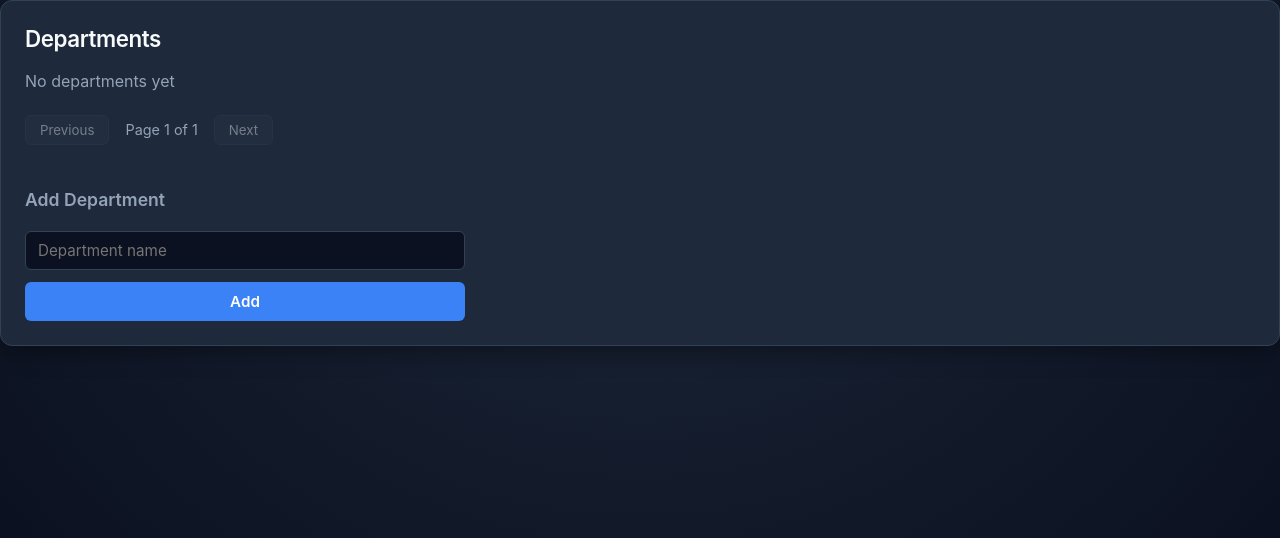
Test: DepartmentsPanel › shows API error message when adding a department fails
Expected: the text "No departments yet" is shown, [25,71,175,91]
Type "Water" into the field with placeholder "Department name" at (245, 250), box [25,231,465,270]
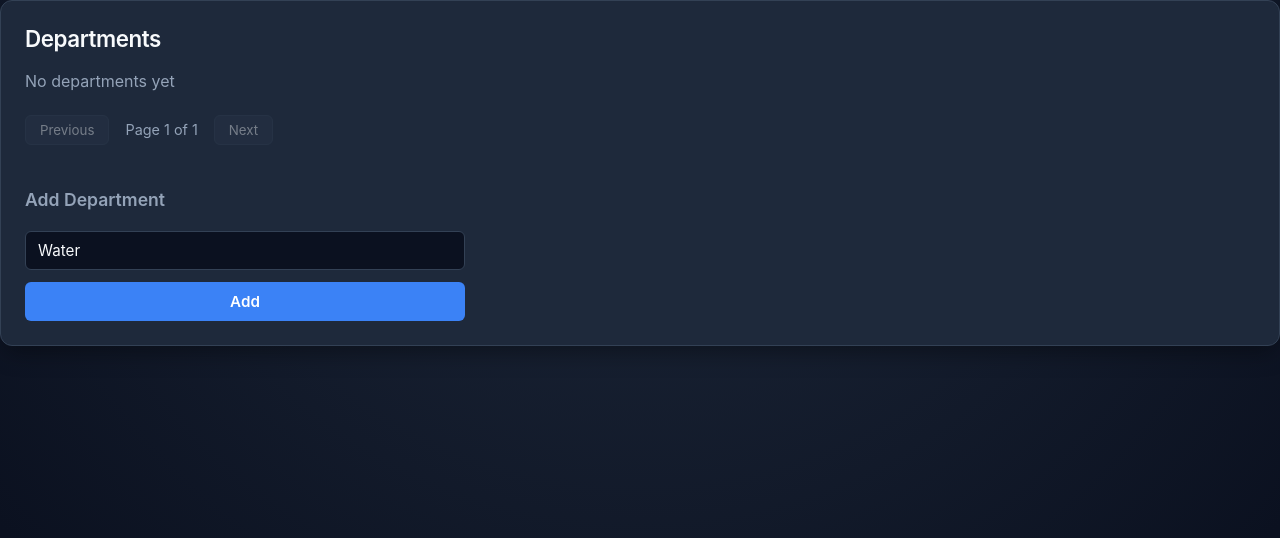
Click the button "Add" at (245, 301), box [25,282,465,321]
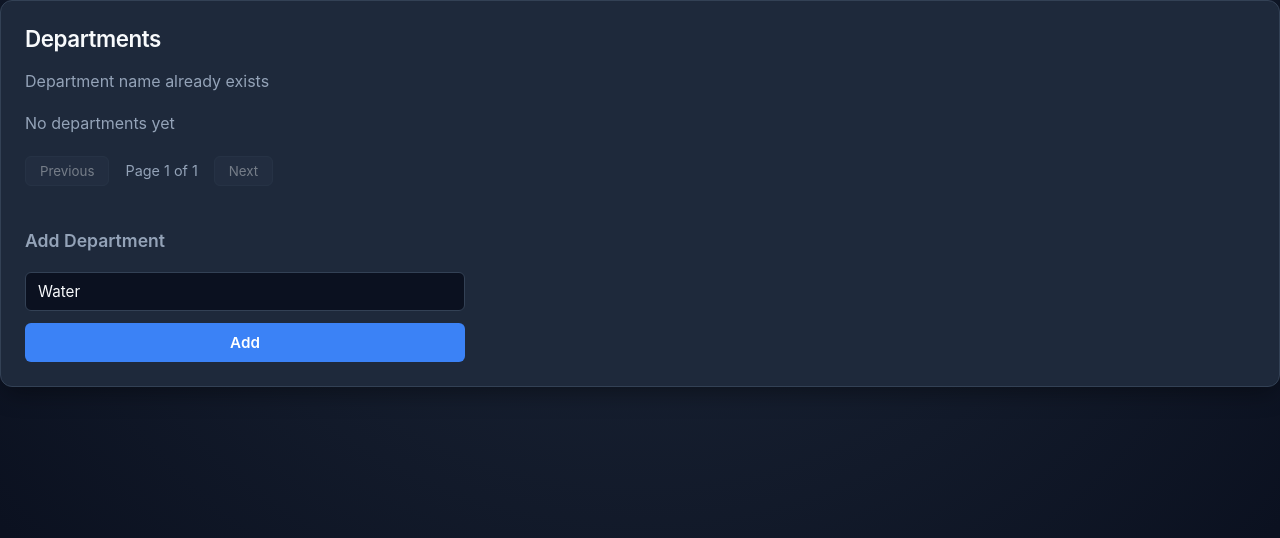
Expected: the text "Department name already exists" is shown, [25,71,269,91]
